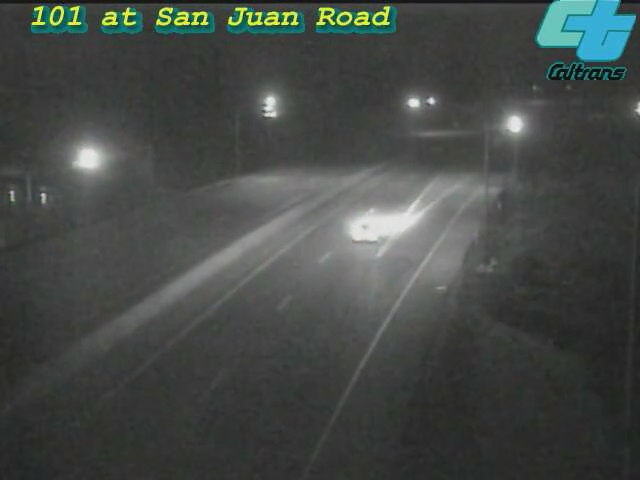vehicle: (323, 193, 403, 273), (486, 99, 536, 149)
